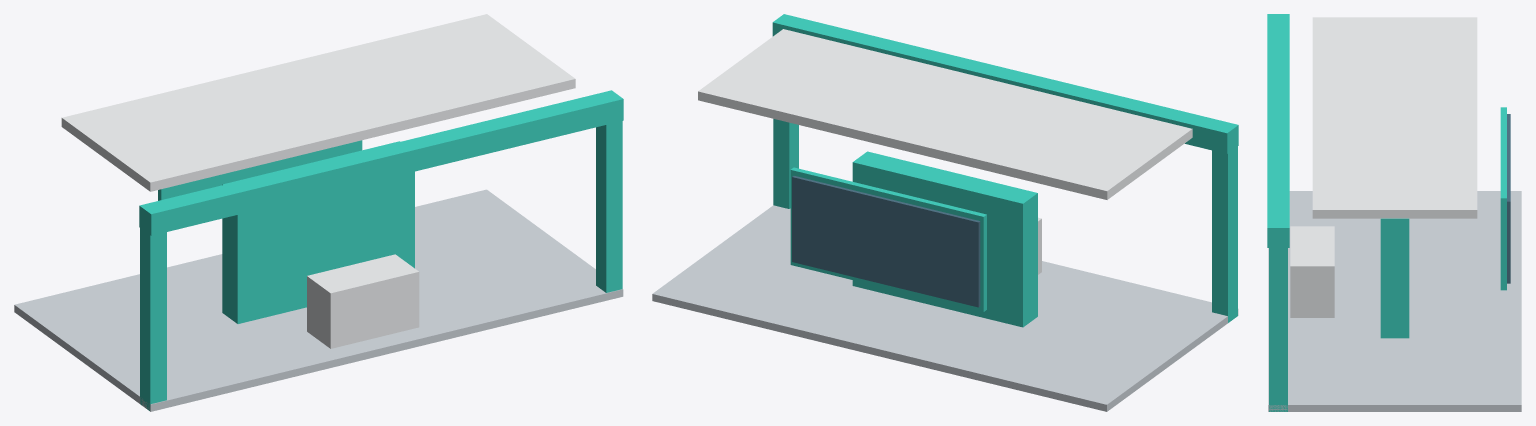
The picture shows the model from 3 angles, left to right: view 1: azimuth 30°, elevation 25°; view 2: azimuth 150°, elevation 25°; view 3: azimuth 270°, elevation 25°; orthographic projection. The views are drawn at different scales.
Visible parts, largest first — view 1: Exhibition Booth Concept; view 2: Exhibition Booth Concept; view 3: Exhibition Booth Concept.
Boxes of the visible parts, bbox=[...] form: Exhibition Booth Concept: bbox=[14, 14, 623, 411]; Exhibition Booth Concept: bbox=[652, 14, 1238, 411]; Exhibition Booth Concept: bbox=[1267, 14, 1521, 411].
Size of the model in its own units: 8 by 3.34 by 4.02.
